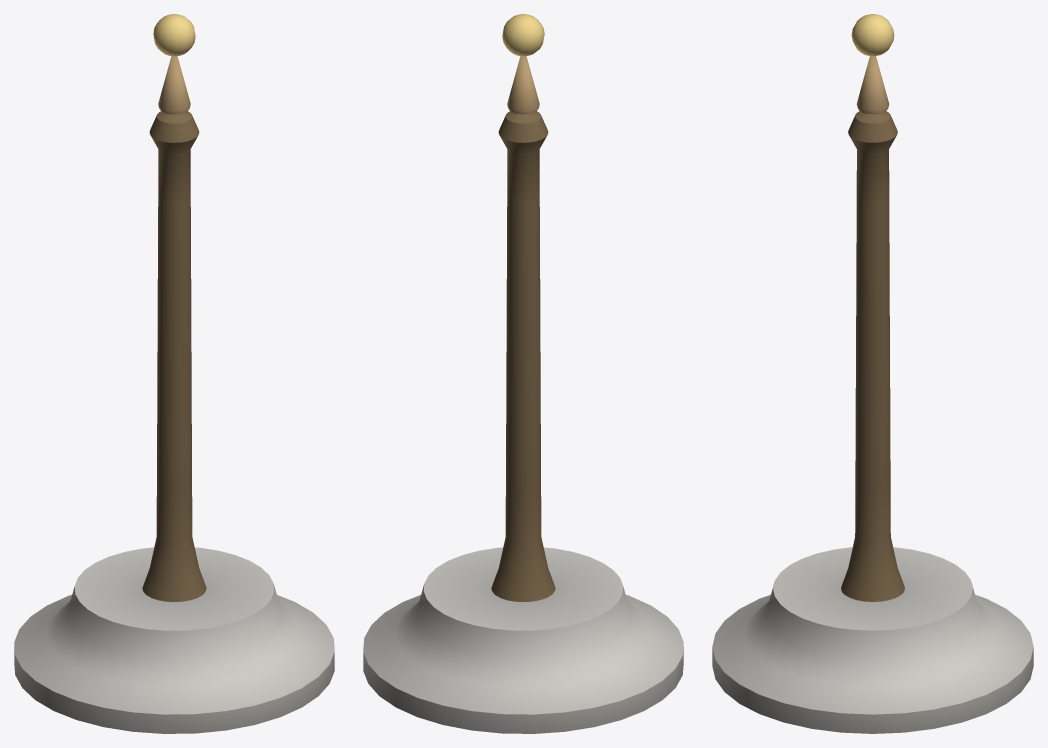
The model's file is obj_kit_bigscale.glb.
The picture shows the model from 3 angles, left to right: view 1: azimuth 30°, elevation 25°; view 2: azimuth 150°, elevation 25°; view 3: azimuth 270°, elevation 25°; orthographic projection.
Parts seen in each view (by area): view 1: base, post, Sphere, Cone; view 2: base, post, Sphere, Cone; view 3: base, post, Sphere, Cone.
Part boxes in pixels (box(x1,y1,x2,y2)): base: box(14, 547, 334, 733); post: box(142, 111, 206, 601); Sphere: box(153, 14, 195, 56); Cone: box(158, 56, 190, 114); base: box(363, 547, 683, 733); post: box(491, 111, 555, 601); Sphere: box(502, 14, 544, 56); Cone: box(507, 56, 539, 114); base: box(712, 547, 1033, 733); post: box(841, 111, 904, 601); Sphere: box(851, 14, 894, 56); Cone: box(856, 56, 889, 114).
Bounding box in the file's own units: 0.9 × 2.01 × 0.9.
